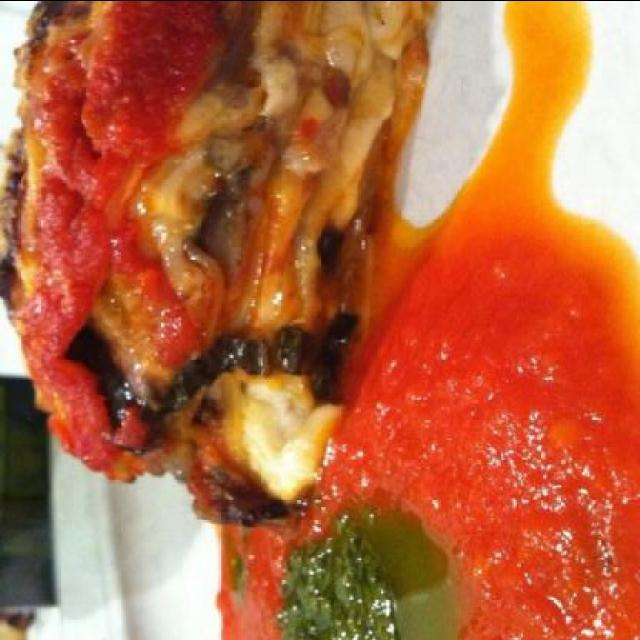Lasagna: (20, 0, 388, 518)
